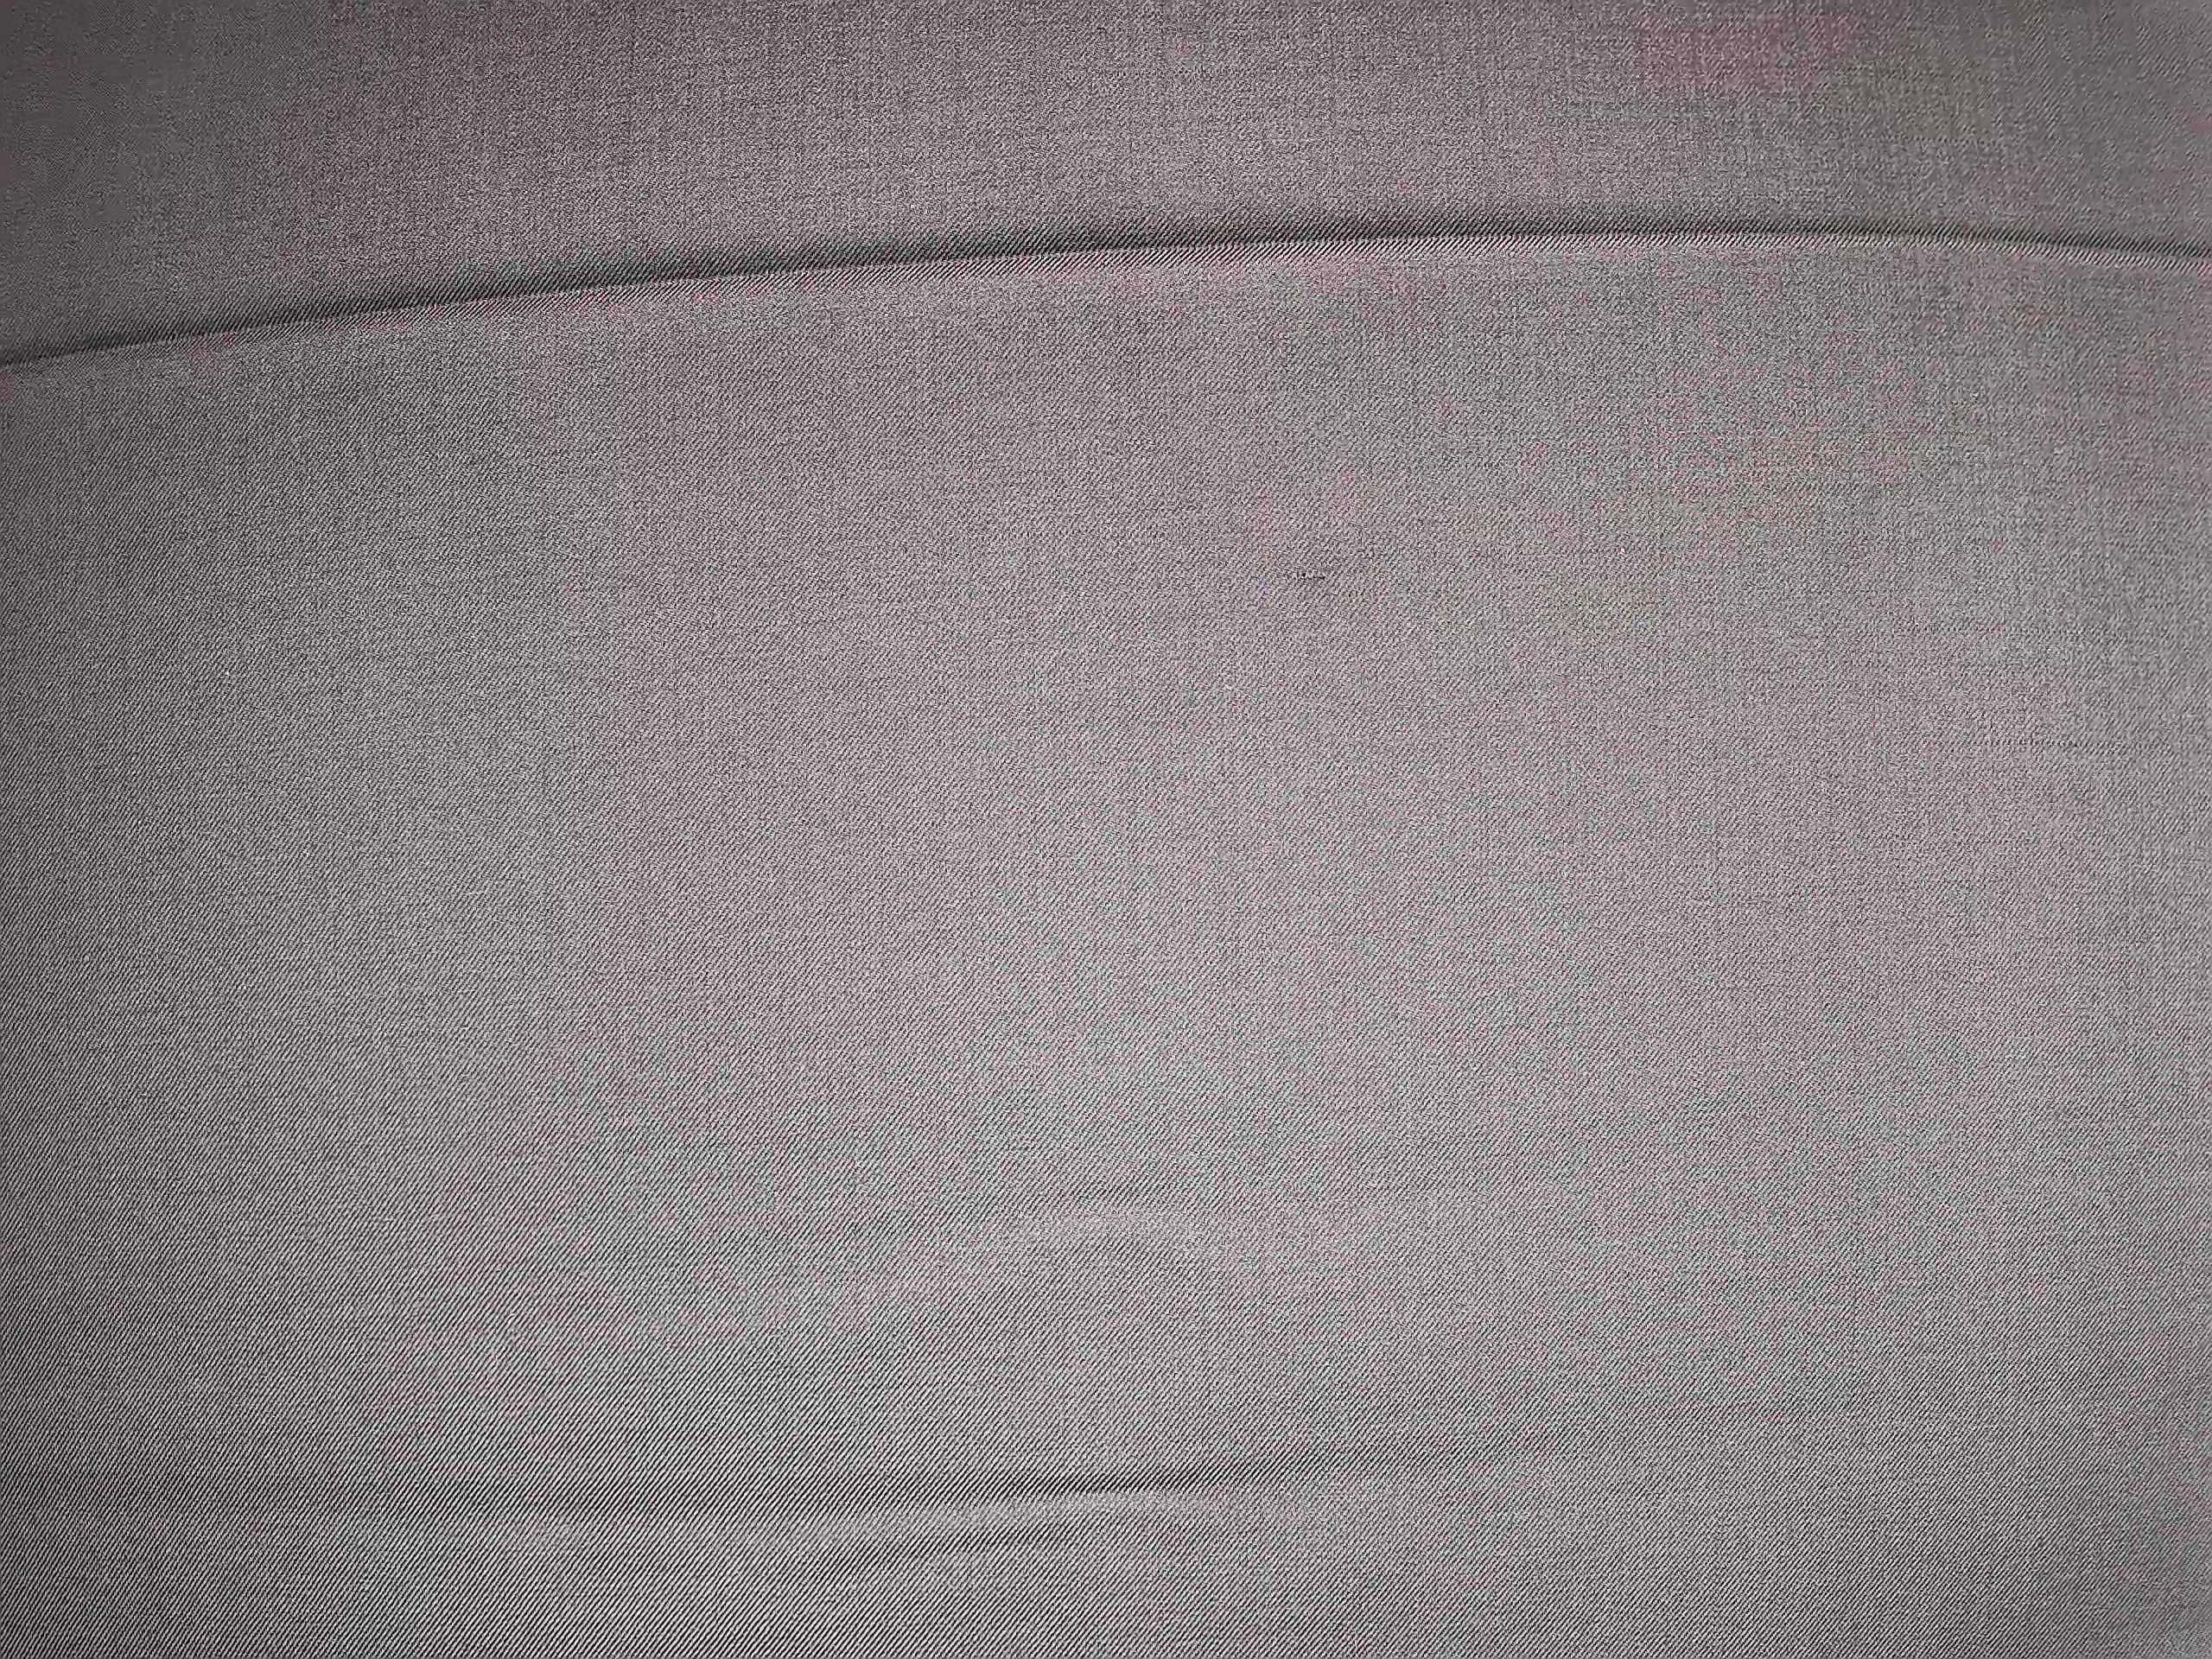others: (1263, 537, 1362, 613)
